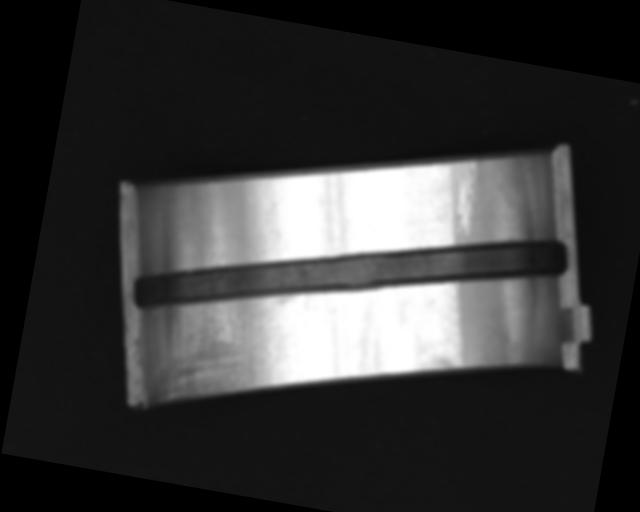gap: (131, 169, 571, 380)
nick: (449, 155, 484, 237)
scratch: (151, 273, 295, 421)
